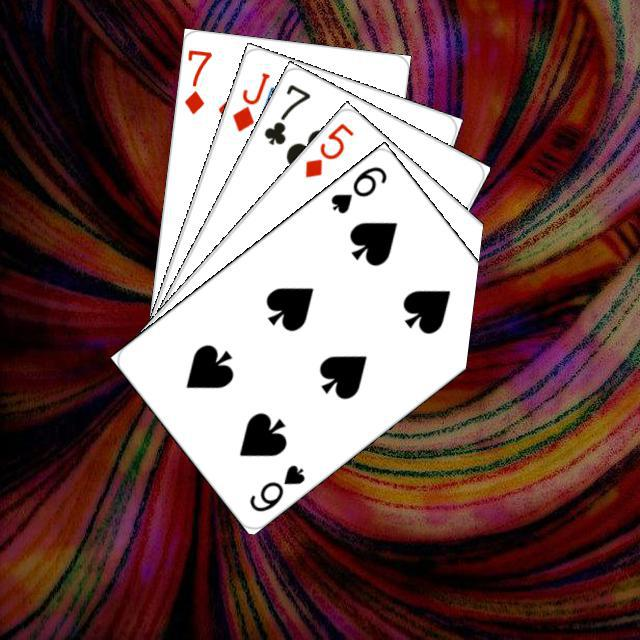5d: (299, 118, 356, 180)
6s: (325, 161, 389, 216), (244, 459, 307, 514)
7c: (258, 79, 312, 147)
7d: (179, 45, 214, 116)
Jd: (227, 67, 272, 134)
